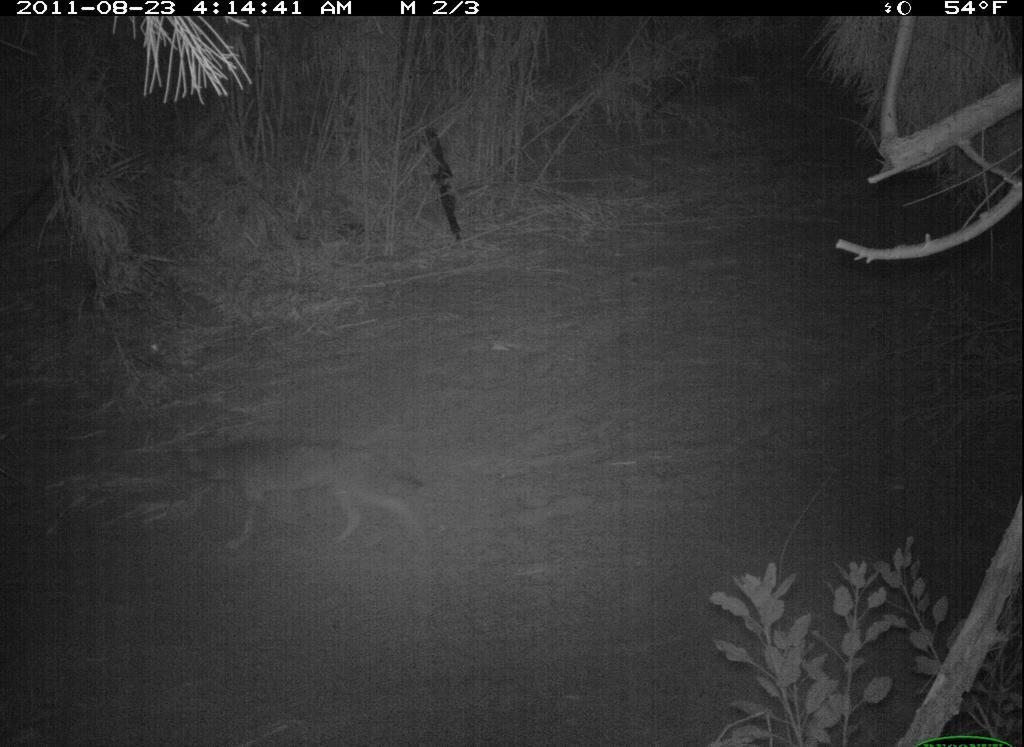coyote: (157, 436, 432, 561)
